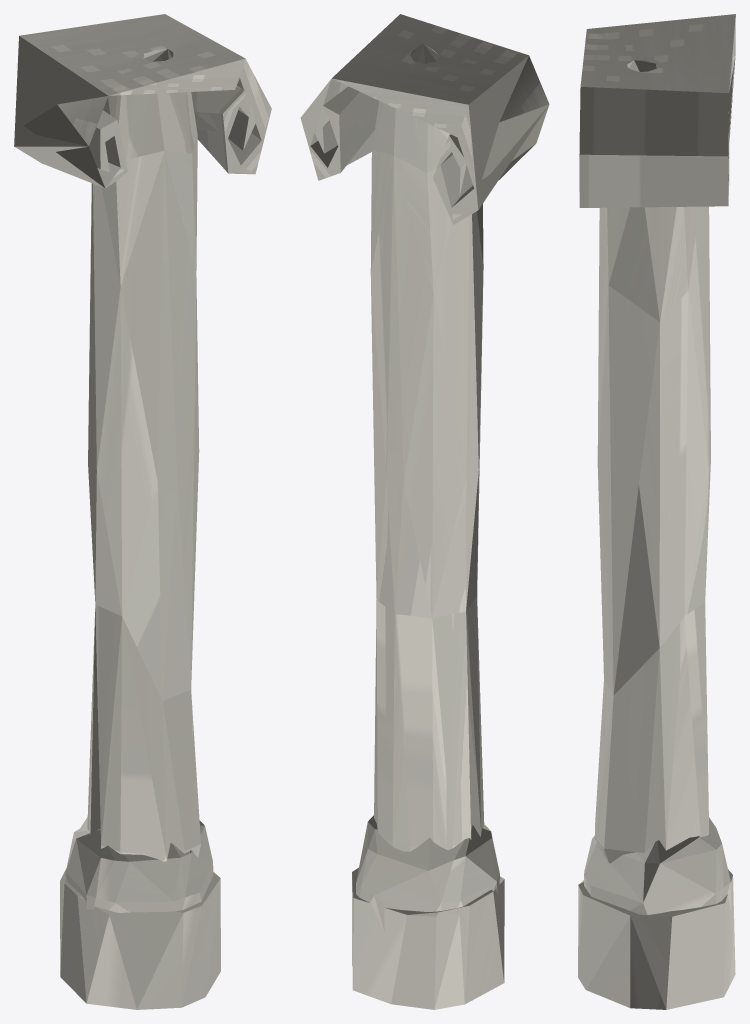
File: column7mdl.obj
3 renders of one model, left to right at view 1: azimuth 30°, elevation 25°; view 2: azimuth 150°, elevation 25°; view 3: azimuth 270°, elevation 25°, orthographic.
Visible parts, largest first — view 1: Mesh (2); view 2: Mesh (2); view 3: Mesh (2).
Part boxes in pixels (<box>): Mesh (2): <box>14,14,271,1009</box>; Mesh (2): <box>300,14,549,1009</box>; Mesh (2): <box>578,14,735,1009</box>.
Size of the model in its own units: 3.41 by 16.74 by 2.59.
